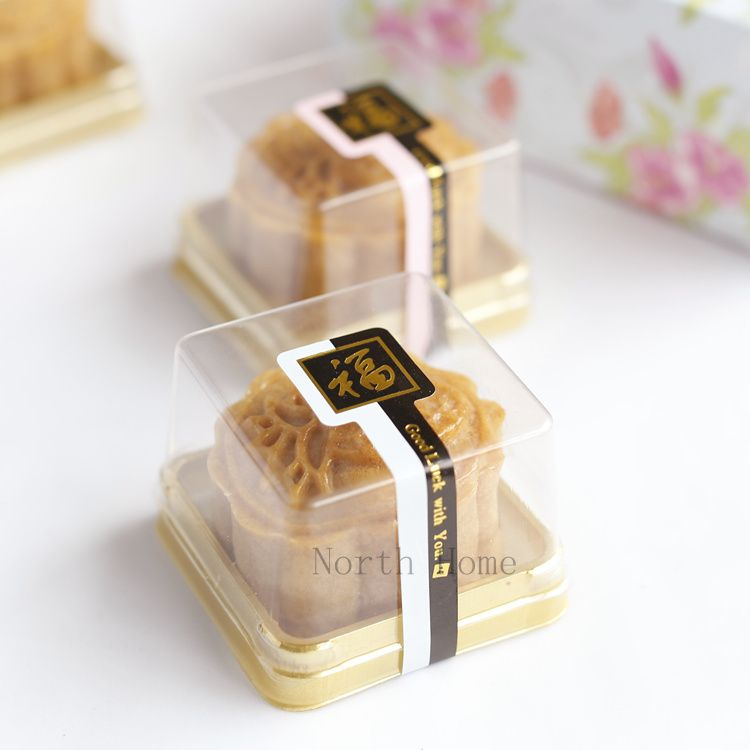PlasticBox: (154, 268, 574, 719)
